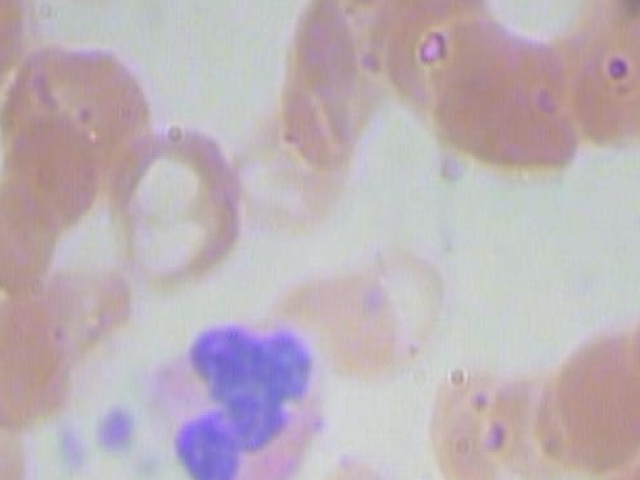Platelets: (92, 391, 141, 462), (43, 414, 92, 480)
RBC: (389, 0, 598, 192), (110, 110, 250, 303), (18, 29, 159, 204), (9, 232, 150, 406), (524, 298, 640, 480), (218, 96, 354, 234), (313, 235, 449, 372), (0, 130, 95, 305), (398, 363, 538, 480), (0, 272, 84, 447), (495, 352, 599, 480), (558, 20, 640, 158), (0, 0, 41, 109), (0, 403, 37, 480), (299, 0, 435, 8), (629, 471, 640, 480)
WBC: (140, 310, 339, 480)
